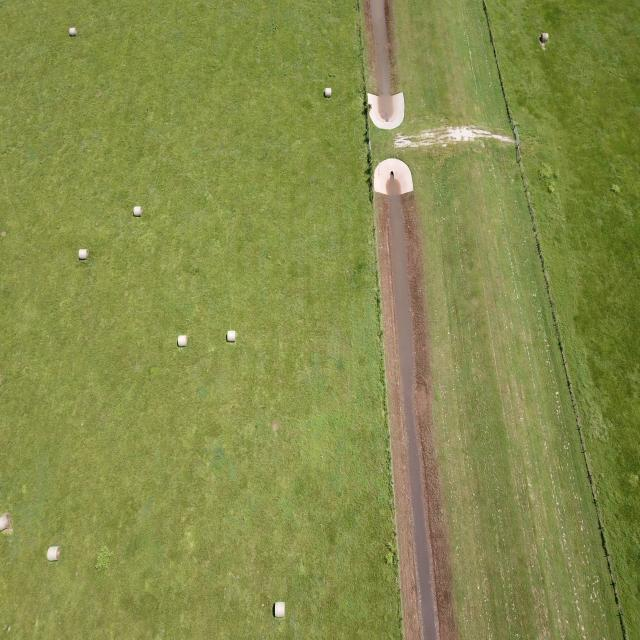fire: (388, 193, 440, 640), (370, 0, 391, 95)
